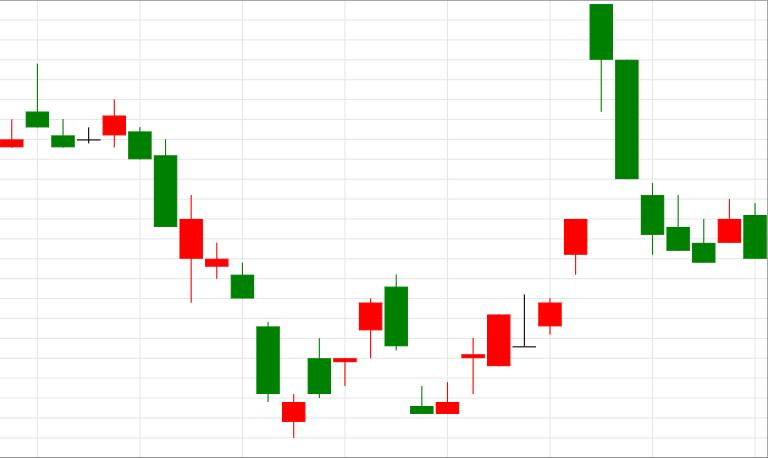three_black_crows_fall: (436, 4, 664, 414)
